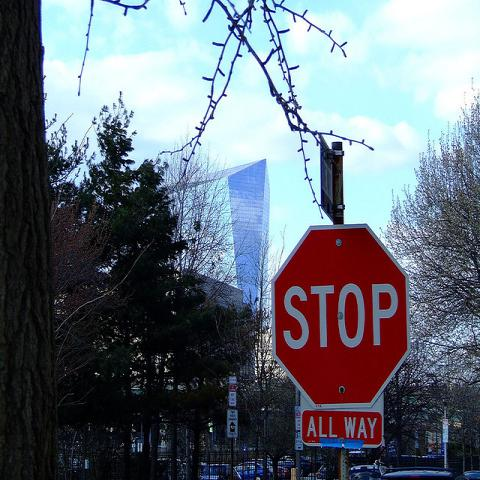car: (234, 462, 270, 479), (278, 456, 295, 467)
